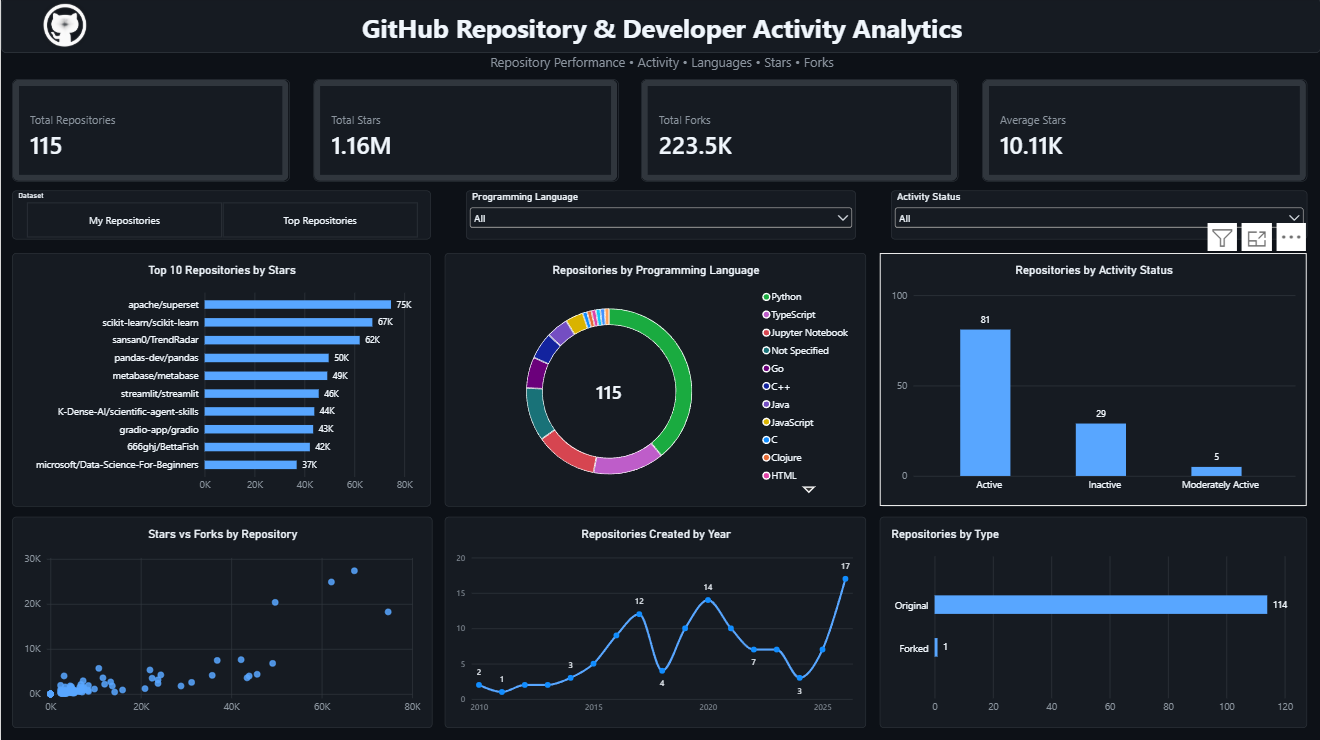

The dashboard page shown, as its layout file describes it:
{"tool":"powerbi","page":{"name":"GitHub_Developer_Activity_Analytics_Dashboard","canvas":[1920,1080],"ordinal":0},"visuals":[{"type":"shape","box":[0,0,1920.1,80],"z":0},{"type":"textbox","box":[517.6,79.6,881.3,47.1],"z":2000},{"type":"cardVisual","fields":{"Data":["Repositories.Total Repositories"]},"box":[16.4,118.2,403.6,149.1],"z":4000},{"type":"cardVisual","fields":{"Data":["Repositories.Total Stars"]},"box":[453.9,118.2,443.6,149.1],"z":5000},{"type":"cardVisual","fields":{"Data":["Repositories.Total Forks"]},"box":[931.5,118.2,461.8,149.1],"z":6000},{"type":"cardVisual","fields":{"Data":["Repositories.Average Stars"]},"box":[1427.3,118.2,472.7,149.1],"z":7000},{"type":"slicer","fields":{"Values":["Repositories.Dataset"]},"box":[16.4,280,609.1,70.9],"z":8000},{"type":"slicer","fields":{"Values":["Repositories.primary_language"]},"box":[676.4,280,567.3,70.9],"z":9000},{"type":"slicer","fields":{"Values":["Repositories.activity_status"]},"box":[1294.5,280,605.5,70.9],"z":10000},{"type":"clusteredBarChart","title":"Top 10 Repositories by Stars","fields":{"Category":["Repositories.full_name"],"Y":["Sum(Repositories.stars_count)"]},"box":[16.4,370.9,609.1,369.1],"z":11000},{"type":"donutChart","title":"Repositories by Programming Language","fields":{"Category":["Repositories.primary_language"],"Y":["CountNonNull(Repositories.full_name)"]},"box":[645.5,370.9,612.7,369.1],"z":12000},{"type":"clusteredColumnChart","title":"Repositories by Activity Status","fields":{"Category":["Repositories.activity_status"],"Y":["CountNonNull(Repositories.full_name)"]},"box":[1278.2,370.9,621.8,369.1],"z":13000},{"type":"scatterChart","title":"Stars vs Forks by Repository","fields":{"Category":["Repositories.full_name"],"X":["Sum(Repositories.stars_count)"],"Y":["Sum(Repositories.forks_count)"]},"box":[16.4,754.5,610.9,307.3],"z":14000},{"type":"lineChart","title":"Repositories Created by Year","fields":{"Category":["Repositories.created_year"],"Y":["CountNonNull(Repositories.full_name)"]},"box":[646.2,754.5,613,307],"z":15000},{"type":"clusteredBarChart","title":"Repositories by Type","fields":{"Category":["Repositories.repository_type"],"Y":["CountNonNull(Repositories.full_name)"]},"box":[1278.2,754.5,621.8,307.3],"z":16000},{"type":"textbox","box":[495.8,0,930.2,79.6],"z":16500},{"type":"image","box":[58.2,0,70.6,79.6],"z":17000}]}

Visuals, with their boxes in screenshot pixels (x1, y1, x2, y2), scaled from the page's 1920x1080 canvas onto the 1320x740 screenshot:
shape: 0,0,1319,55
textbox: 356,55,962,87
cardVisual - Repositories.Total Repositories: 11,81,289,183
cardVisual - Repositories.Total Stars: 312,81,617,183
cardVisual - Repositories.Total Forks: 640,81,958,183
cardVisual - Repositories.Average Stars: 981,81,1306,183
slicer - Repositories.Dataset: 11,192,430,240
slicer - Repositories.primary_language: 465,192,855,240
slicer - Repositories.activity_status: 890,192,1306,240
"Top 10 Repositories by Stars" clusteredBarChart: 11,254,430,507
"Repositories by Programming Language" donutChart: 444,254,865,507
"Repositories by Activity Status" clusteredColumnChart: 879,254,1306,507
"Stars vs Forks by Repository" scatterChart: 11,517,431,728
"Repositories Created by Year" lineChart: 444,517,866,727
"Repositories by Type" clusteredBarChart: 879,517,1306,728
textbox: 341,0,980,55
image: 40,0,89,55
